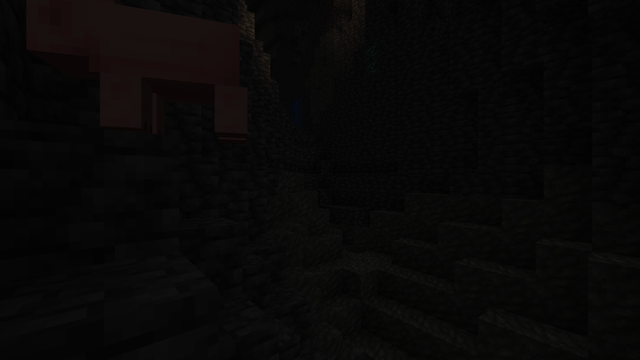cochons: (111, 6, 249, 145)
